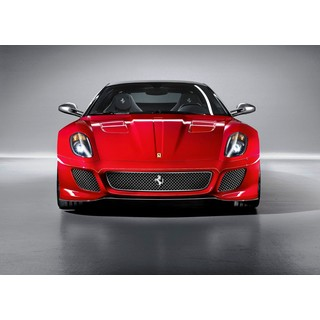car: (57, 79, 263, 211)
